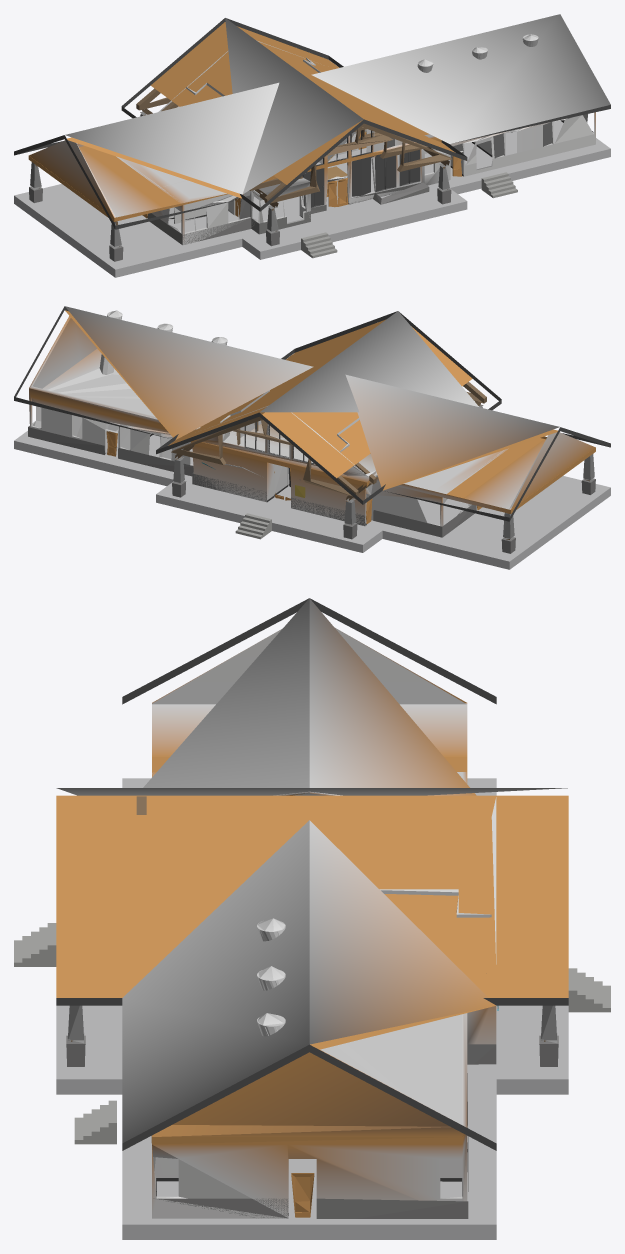
File: terminal.access-v6.lod0.glb
3 renders of one model, top to bottom at view 1: azimuth 30°, elevation 25°; view 2: azimuth 150°, elevation 25°; view 3: azimuth 270°, elevation 25°, orthographic. The views are drawn at different scales.
Visible parts, largest first — view 1: Mesh1_Metal_Aluminum_Anodized_0; view 2: Mesh1_Metal_Aluminum_Anodized_0; view 3: Mesh1_Metal_Aluminum_Anodized_0.
Boxes of the visible parts, box(x1,y1,x2,y2) form: Mesh1_Metal_Aluminum_Anodized_0: box(14, 14, 610, 277); Mesh1_Metal_Aluminum_Anodized_0: box(14, 306, 610, 569); Mesh1_Metal_Aluminum_Anodized_0: box(14, 598, 610, 1239).
Bounding box in the file's own units: 40 × 8.9 × 22.6.
